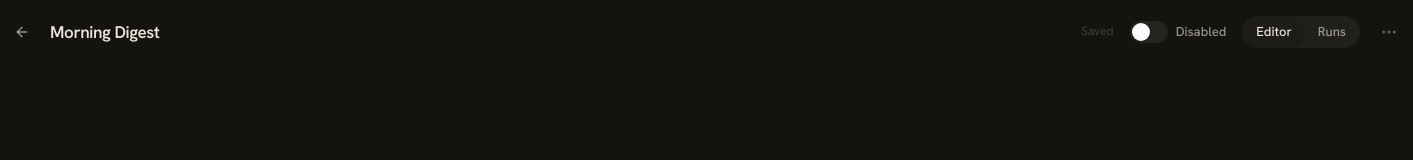
Test: workflow editor surface › enables through the switch with the acknowledged revision
Step 1. Click the switch named "enable workflow" → [1178, 32], box left=1126, top=16, right=1230, bottom=48
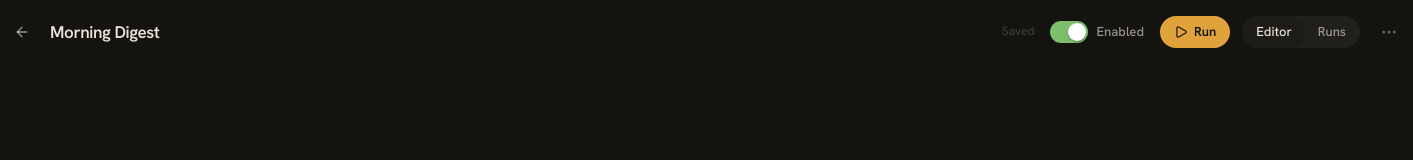
Check: the switch named "disable workflow" is shown, box left=1046, top=16, right=1148, bottom=48
